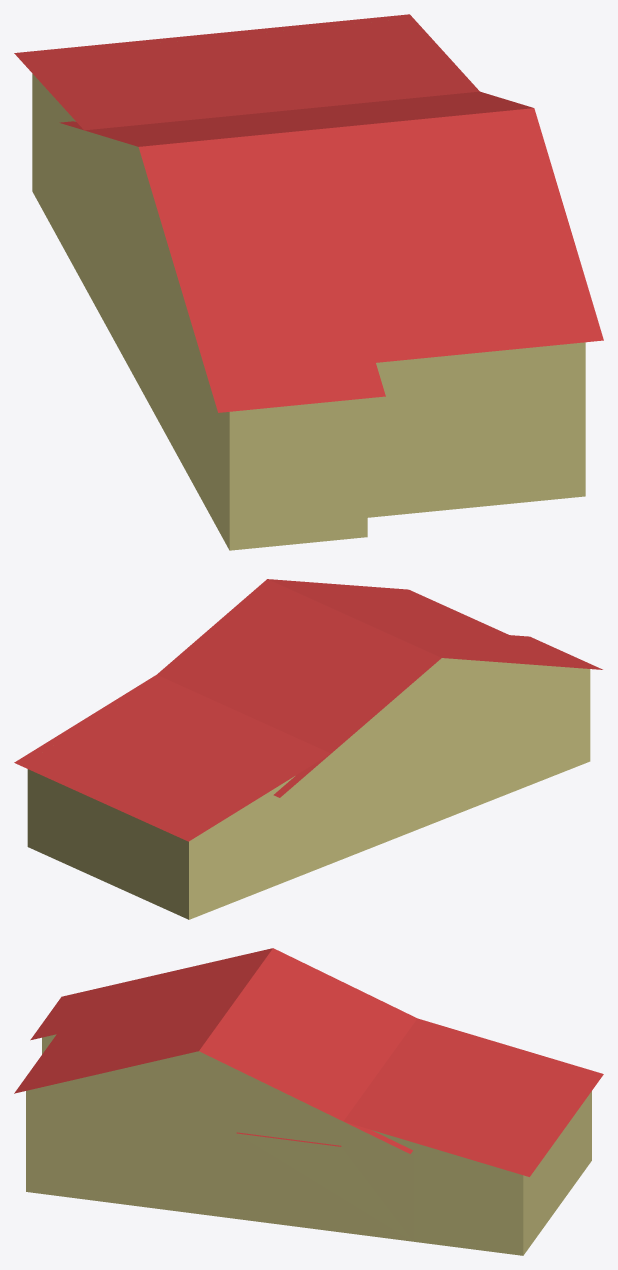
3 renders of one model, top to bottom at view 1: azimuth 30°, elevation 25°; view 2: azimuth 150°, elevation 25°; view 3: azimuth 270°, elevation 25°, orthographic. The views are drawn at different scales.
Size of the model in its own units: 32.16 by 46.37 by 14.5.
